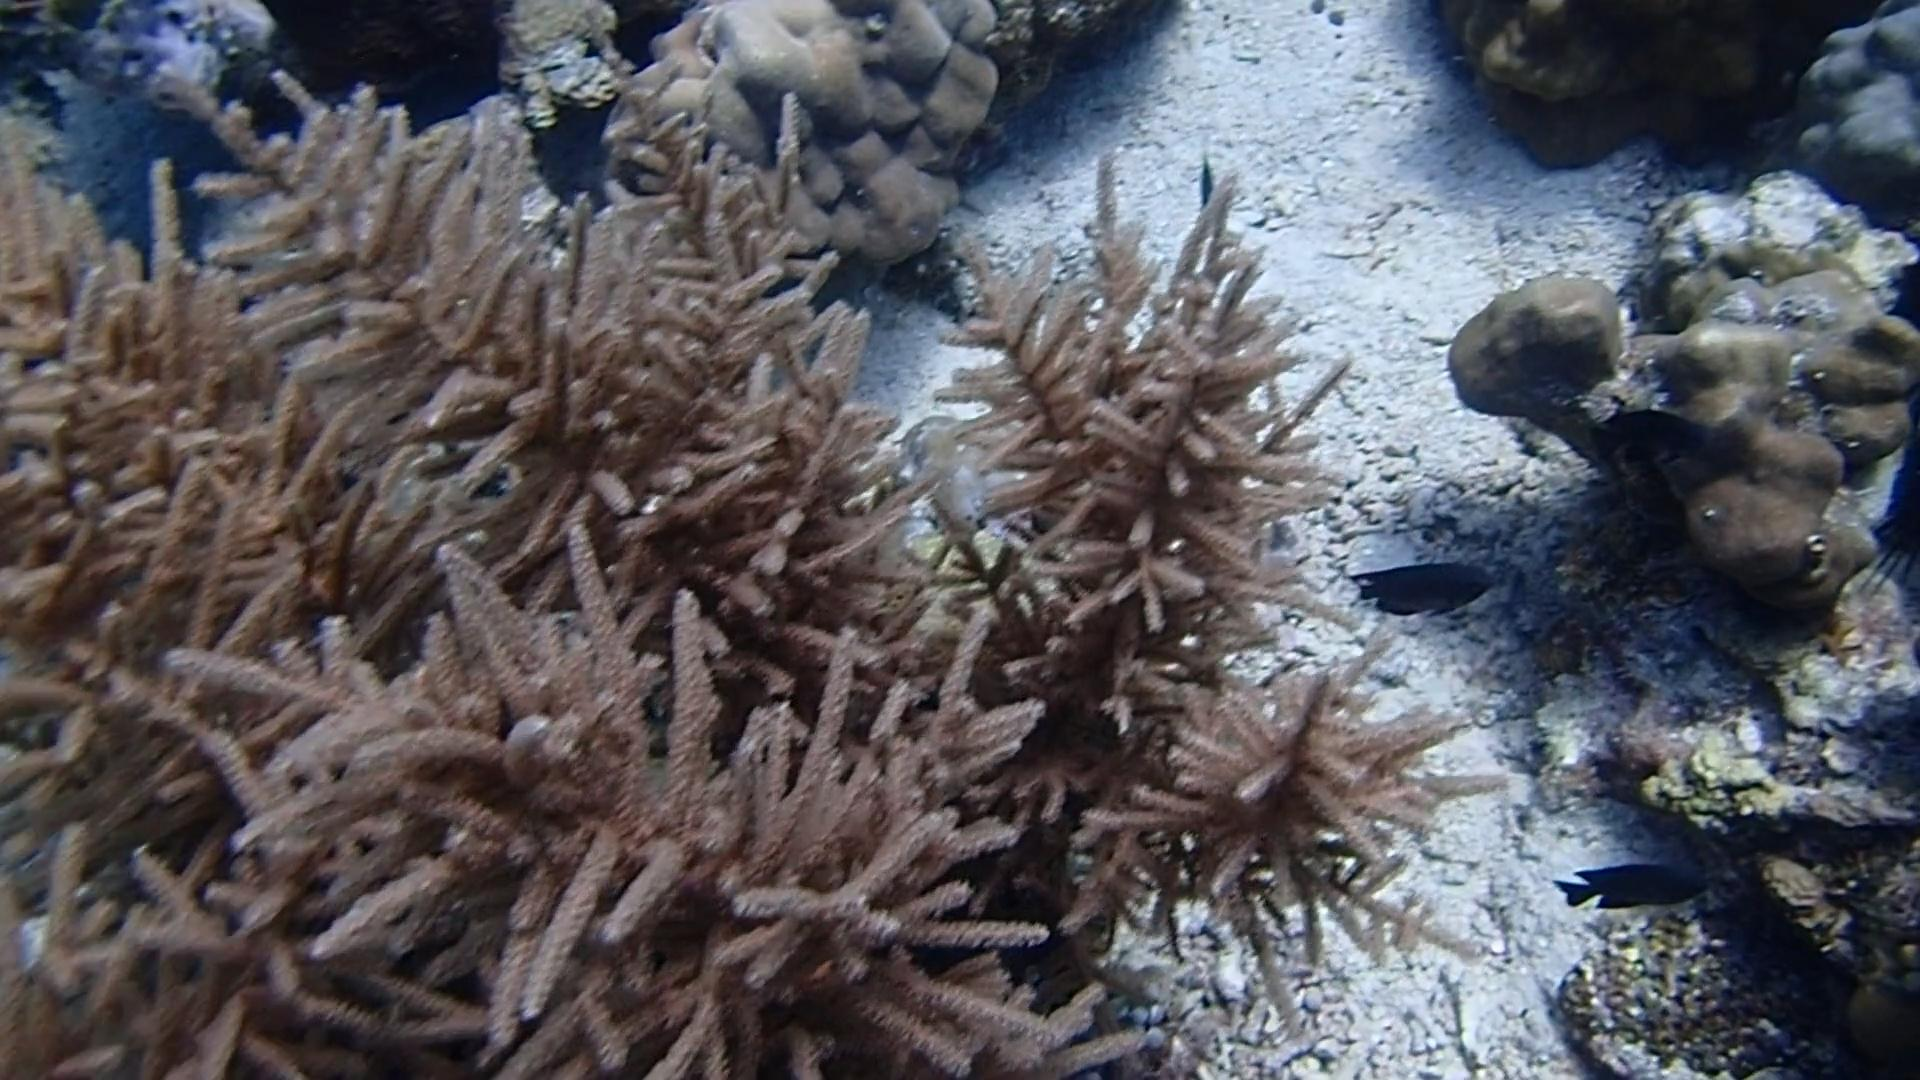Dark Fish: (1551, 852, 1709, 922), (1342, 554, 1494, 625), (1577, 400, 1709, 463)
Yellow Tail: (1187, 146, 1233, 212)
